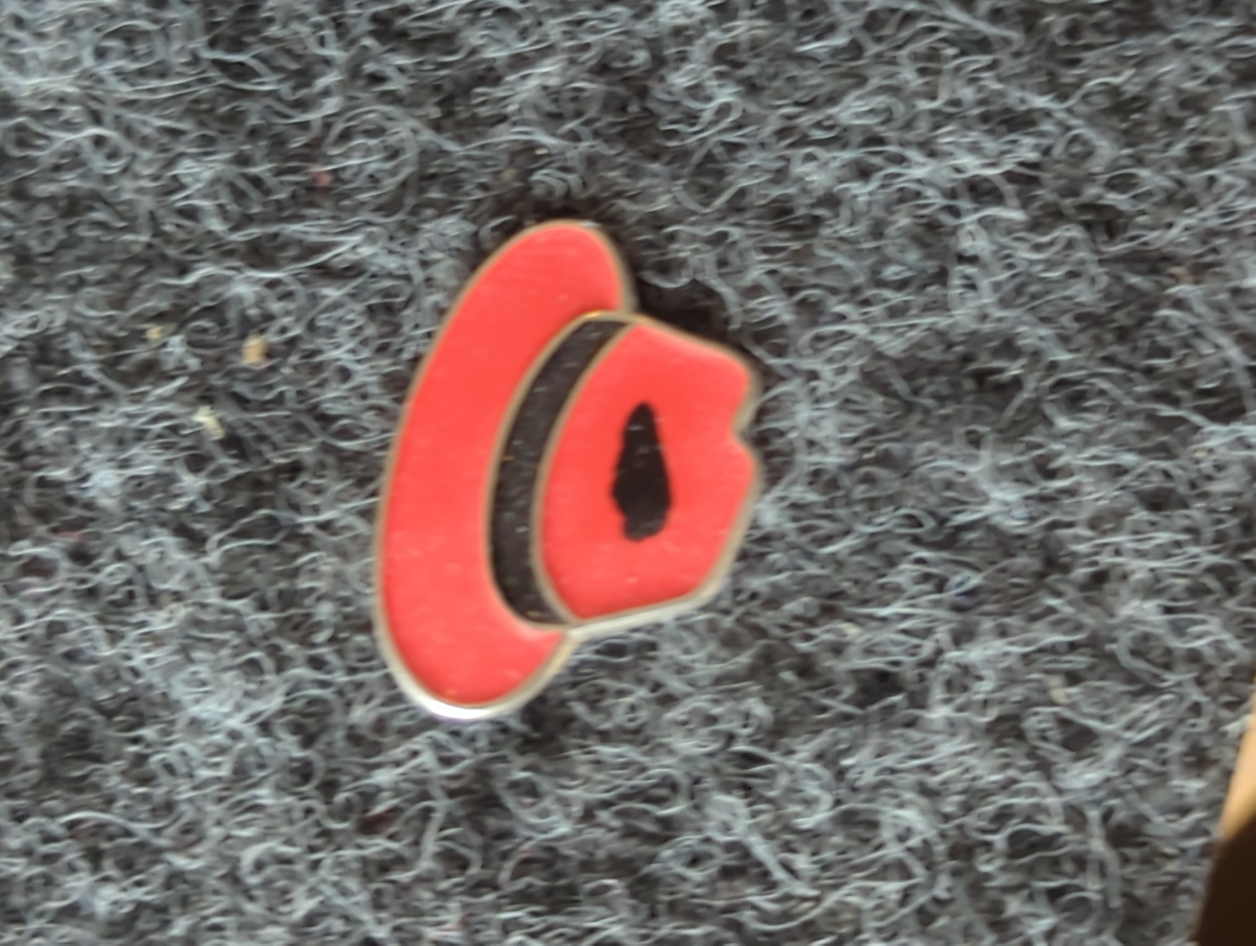Red-Hat: (291, 143, 899, 786)
Scratch: (569, 354, 715, 566)
